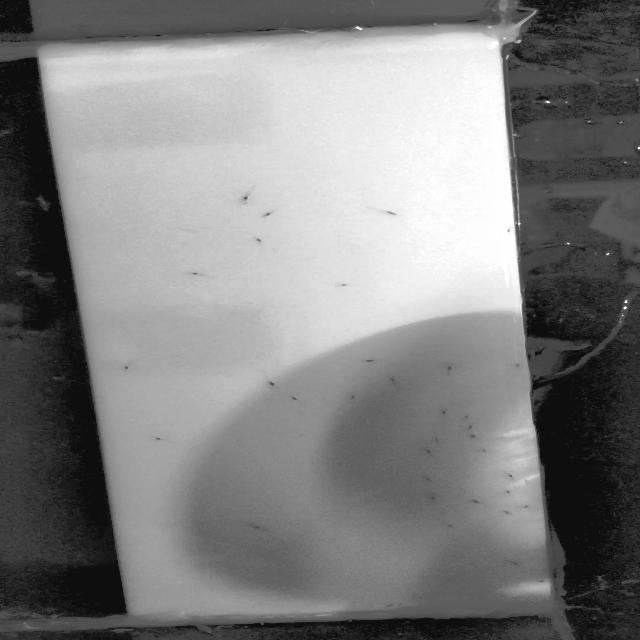shrimp: (172, 266, 211, 282), (104, 358, 134, 378), (372, 205, 404, 222), (245, 521, 284, 534), (436, 363, 471, 377), (227, 188, 257, 204), (138, 431, 170, 445), (353, 355, 390, 367), (247, 235, 272, 251), (382, 372, 404, 389), (280, 394, 308, 407), (254, 210, 290, 220), (326, 282, 358, 292), (436, 575, 464, 586), (346, 392, 370, 404), (466, 494, 486, 508), (257, 378, 281, 389), (502, 556, 524, 568), (417, 472, 438, 484), (419, 446, 440, 457), (432, 406, 454, 416), (377, 601, 404, 609), (420, 493, 445, 501), (499, 487, 520, 496), (501, 471, 522, 480), (442, 520, 460, 530), (500, 510, 520, 519), (461, 423, 479, 432), (519, 503, 537, 512), (463, 434, 486, 441), (462, 411, 476, 421), (534, 578, 548, 586), (431, 436, 441, 444)
